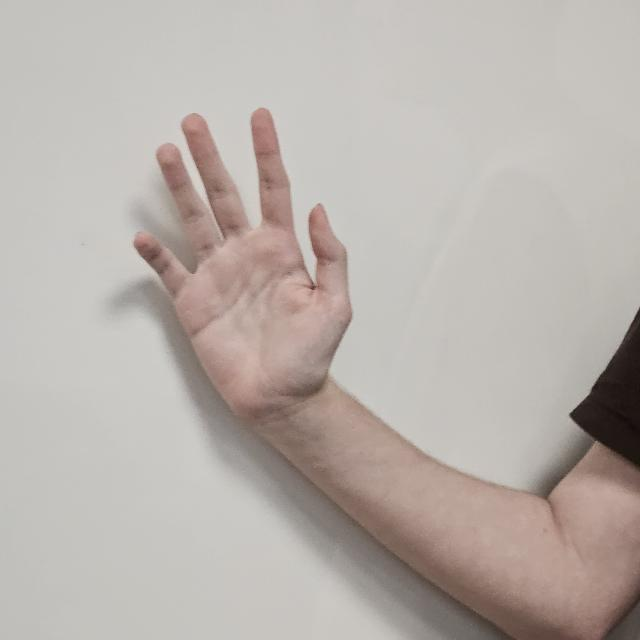X: (128, 106, 366, 434)
